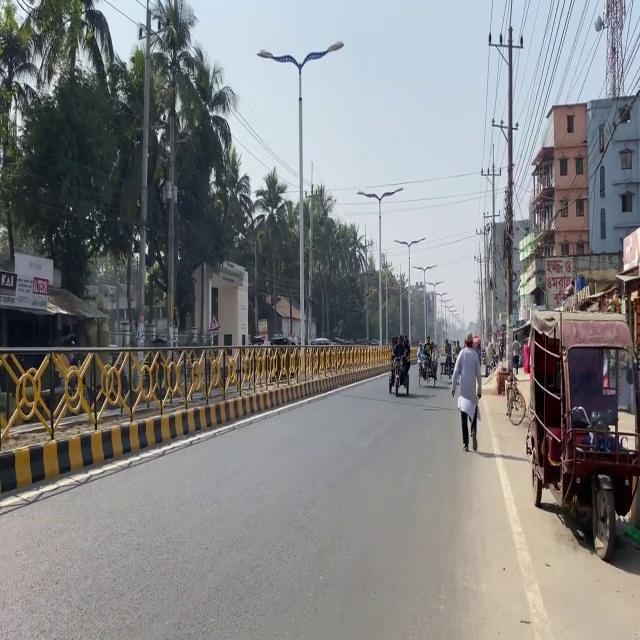Fallen-tree: (387, 354, 410, 395), (417, 351, 438, 385), (441, 353, 454, 376)
Garbage-bin: (450, 332, 482, 451)
Pole: (0, 320, 266, 500)
Pothole: (476, 360, 639, 639)
Traffic-cone: (524, 308, 639, 560)
